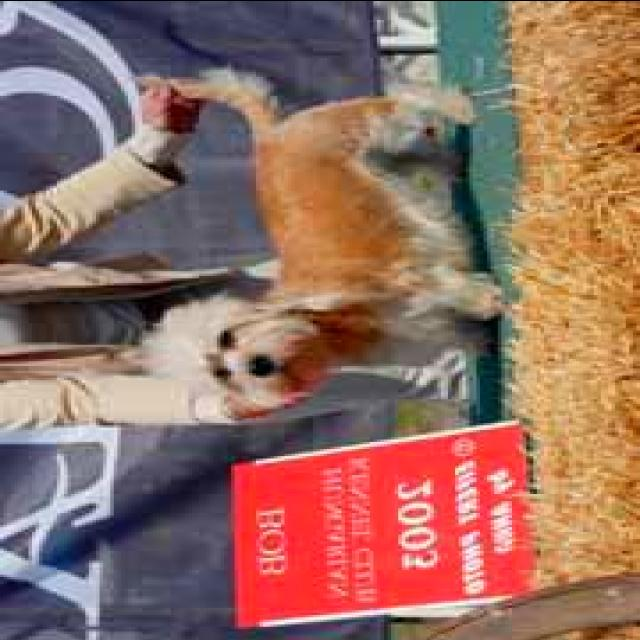dandie_dinmont: (114, 59, 508, 420)
